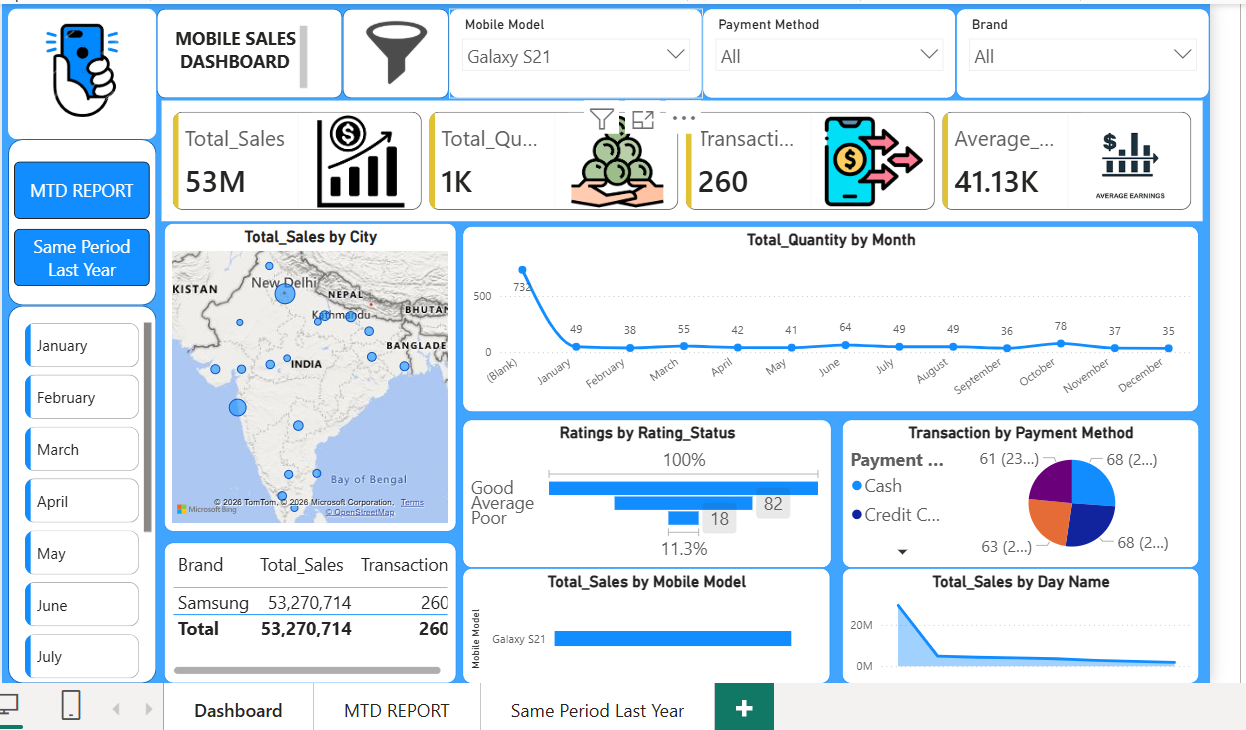

The dashboard page shown, as its layout file describes it:
{"tool":"powerbi","page":{"name":"Dashboard","canvas":[1280,720],"ordinal":0},"visuals":[{"type":"image","box":[6.4,4.8,157.5,138.4],"z":0},{"type":"shape","box":[6.4,143.2,157.5,176.6],"z":1000},{"type":"shape","box":[6.4,319.7,157.5,400.8],"z":2000},{"type":"advancedSlicerVisual","fields":{"Values":["Custom_Calendar.Date.Variation.Date Hierarchy.Month"]},"box":[19.1,332.4,144.7,388.1],"z":3000},{"type":"cardVisual","fields":{"Data":["Mobile_Sales_Data.Total_Sales","Mobile_Sales_Data.Total_Quantity","Mobile_Sales_Data.Transaction","Mobile_Sales_Data.Average_Price"]},"box":[163.8,97,1116.6,138.4],"z":4000},{"type":"slicer","fields":{"Values":["Mobile_Sales_Data.Mobile Model"]},"box":[474,4.8,268.8,95.4],"z":5000},{"type":"slicer","fields":{"Values":["Mobile_Sales_Data.Payment Method"]},"box":[742.8,4.8,268.8,95.4],"z":6000},{"type":"slicer","fields":{"Values":["Mobile_Sales_Data.Brand"]},"box":[1011.6,4.8,268.8,95.4],"z":7000},{"type":"shape","box":[361.1,4.8,112.9,95.4],"z":8000},{"type":"shape","box":[163.8,4.8,197.2,95.4],"z":9000},{"type":"textbox","box":[179.7,19.1,147.9,77.9],"z":10000},{"type":"lineChart","fields":{"Y":["Mobile_Sales_Data.Total_Quantity"],"Category":["Custom_Calendar.Date.Variation.Date Hierarchy.Month"]},"box":[488.3,235.4,781,197.2],"z":11000},{"type":"image","box":[372.2,15.9,92.3,71.6],"z":12000},{"type":"map","fields":{"Category":["Mobile_Sales_Data.City"],"Size":["Mobile_Sales_Data.Total_Sales"]},"box":[171.8,232.2,310.2,327.7],"z":13000},{"type":"funnel","title":" Ratings by Rating_Status","fields":{"Y":["CountNonNull(Mobile_Sales_Data.Customer Age)"],"Category":["Mobile_Sales_Data.Rating_Status"]},"box":[488.3,440.6,391.3,157.5],"z":14000},{"type":"pieChart","fields":{"Category":["Mobile_Sales_Data.Payment Method"],"Y":["Mobile_Sales_Data.Transaction"]},"box":[890.7,440.6,378.6,157.5],"z":15000},{"type":"clusteredBarChart","fields":{"Y":["Mobile_Sales_Data.Total_Sales"],"Category":["Mobile_Sales_Data.Mobile Model"]},"box":[488.3,598.1,389.7,122.5],"z":16000},{"type":"areaChart","fields":{"Category":["Custom_Calendar.Day Name"],"Y":["Mobile_Sales_Data.Total_Sales"]},"box":[890.7,598.1,378.6,122.5],"z":17000},{"type":"tableEx","fields":{"Values":["Mobile_Sales_Data.Brand","Mobile_Sales_Data.Total_Sales","Mobile_Sales_Data.Transaction"]},"box":[171.8,571,310.2,149.5],"z":18000},{"type":"pageNavigator","box":[12.7,167,144.7,132],"z":19000}]}

Visuals, with their boxes on the page's 1280x720 design canvas (x1, y1, x2, y2). These are canvas units, not pixel positions in the 1246x730 screenshot, which may show the page scaled, cropped or inside an application window:
image: <region>6, 5, 164, 143</region>
shape: <region>6, 143, 164, 320</region>
shape: <region>6, 320, 164, 720</region>
advancedSlicerVisual - Custom_Calendar.Date.Variation.Date Hierarchy.Month: <region>19, 332, 164, 720</region>
cardVisual - Mobile_Sales_Data.Total_Sales x Mobile_Sales_Data.Total_Quantity: <region>164, 97, 1280, 235</region>
slicer - Mobile_Sales_Data.Mobile Model: <region>474, 5, 743, 100</region>
slicer - Mobile_Sales_Data.Payment Method: <region>743, 5, 1012, 100</region>
slicer - Mobile_Sales_Data.Brand: <region>1012, 5, 1280, 100</region>
shape: <region>361, 5, 474, 100</region>
shape: <region>164, 5, 361, 100</region>
textbox: <region>180, 19, 328, 97</region>
lineChart - Mobile_Sales_Data.Total_Quantity x Custom_Calendar.Date.Variation.Date Hierarchy.Month: <region>488, 235, 1269, 433</region>
image: <region>372, 16, 464, 88</region>
map - Mobile_Sales_Data.City x Mobile_Sales_Data.Total_Sales: <region>172, 232, 482, 560</region>
" Ratings by Rating_Status" funnel: <region>488, 441, 880, 598</region>
pieChart - Mobile_Sales_Data.Payment Method x Mobile_Sales_Data.Transaction: <region>891, 441, 1269, 598</region>
clusteredBarChart - Mobile_Sales_Data.Total_Sales x Mobile_Sales_Data.Mobile Model: <region>488, 598, 878, 721</region>
areaChart - Custom_Calendar.Day Name x Mobile_Sales_Data.Total_Sales: <region>891, 598, 1269, 721</region>
tableEx - Mobile_Sales_Data.Brand x Mobile_Sales_Data.Total_Sales: <region>172, 571, 482, 720</region>
pageNavigator: <region>13, 167, 157, 299</region>
